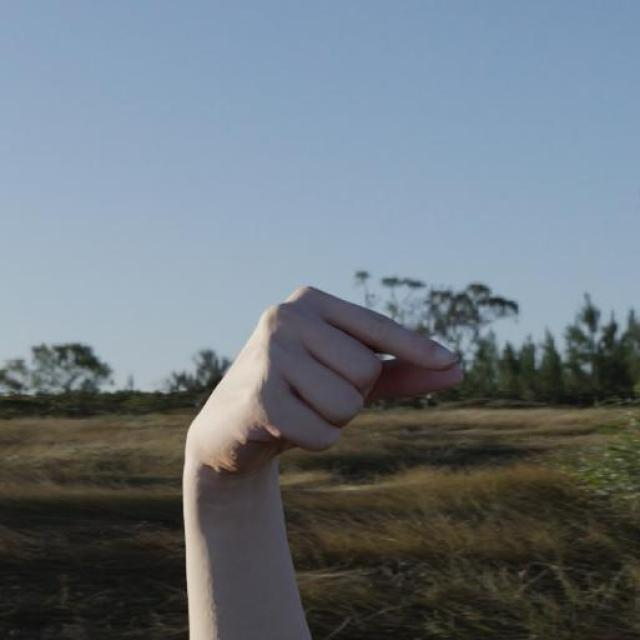G: (182, 282, 464, 488)
